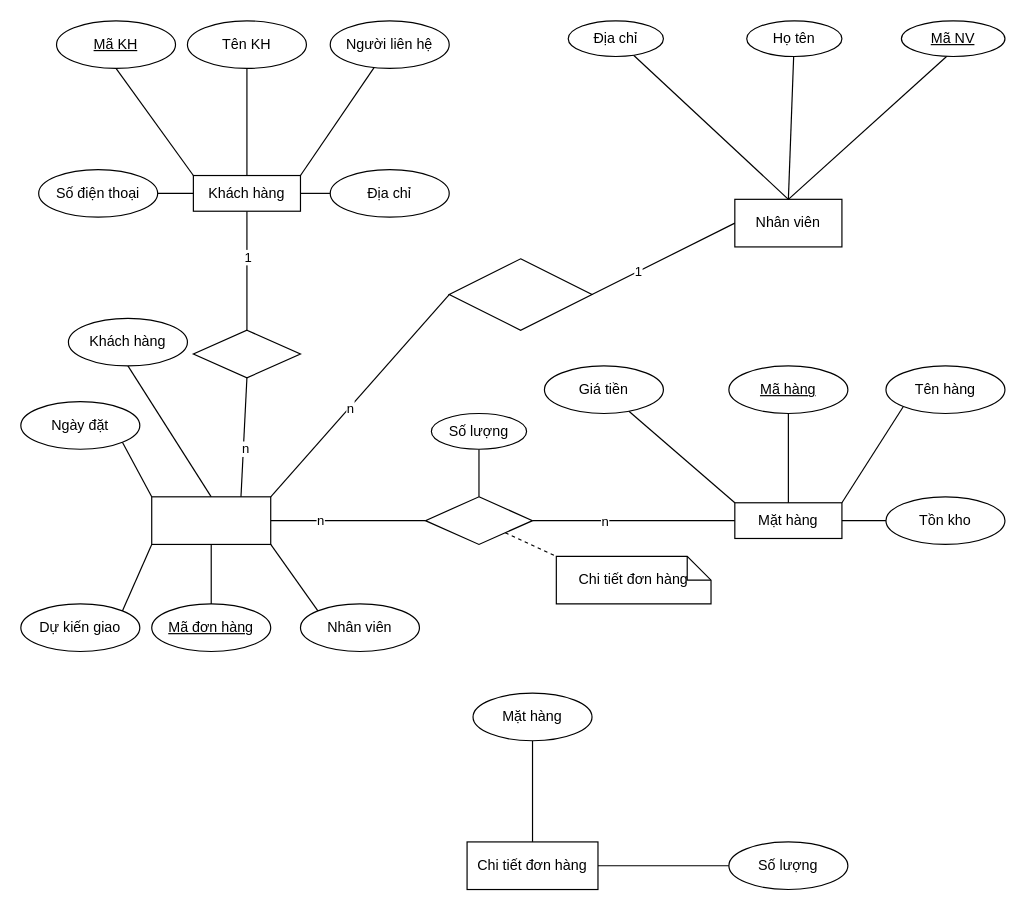
Image size: 1026x910. Some labels were removed from this diagram. The centre of each missing label's shape, as x and y in pixels:
"Chứa" goes at pixel 478 520.
"Phụ trách" goes at pixel 520 294.
"Đơn hàng" goes at pixel 211 520.
"Đặt" goes at pixel 246 353.
